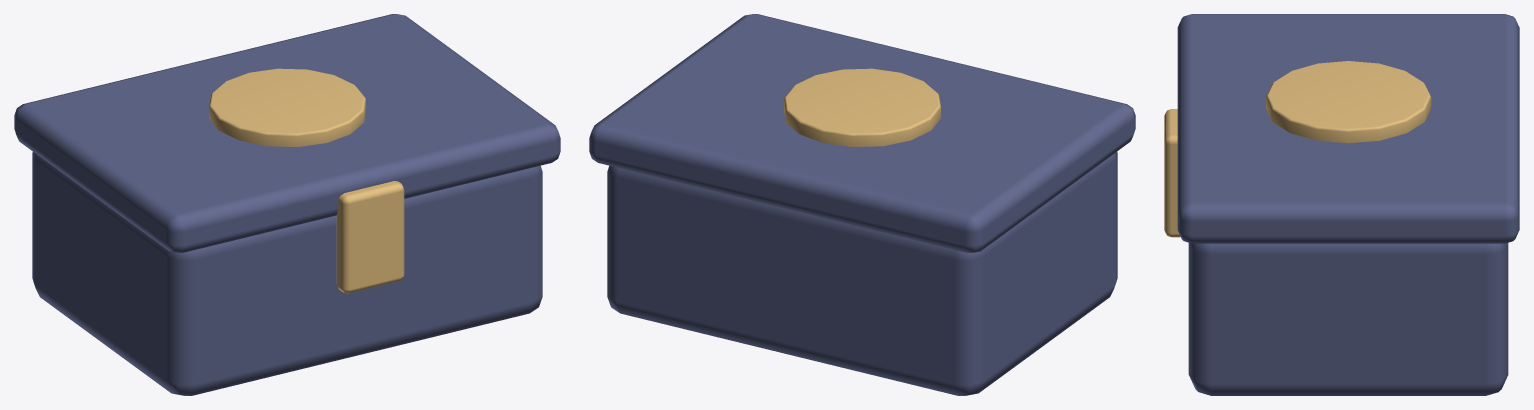
The model's file is Tarot_Box.fbx.
3 views of the same model, side by side, from view 1: azimuth 30°, elevation 25°; view 2: azimuth 150°, elevation 25°; view 3: azimuth 270°, elevation 25° (orthographic). The views are drawn at different scales.
Parts seen in each view (by area): view 1: Tarot_Box_Mesh; view 2: Tarot_Box_Mesh; view 3: Tarot_Box_Mesh.
Part boxes in pixels (<box>): Tarot_Box_Mesh: <box>14,14,560,395</box>; Tarot_Box_Mesh: <box>589,14,1135,395</box>; Tarot_Box_Mesh: <box>1164,14,1519,395</box>.
Bounding box in the file's own units: 0.126 × 0.063 × 0.0945.
